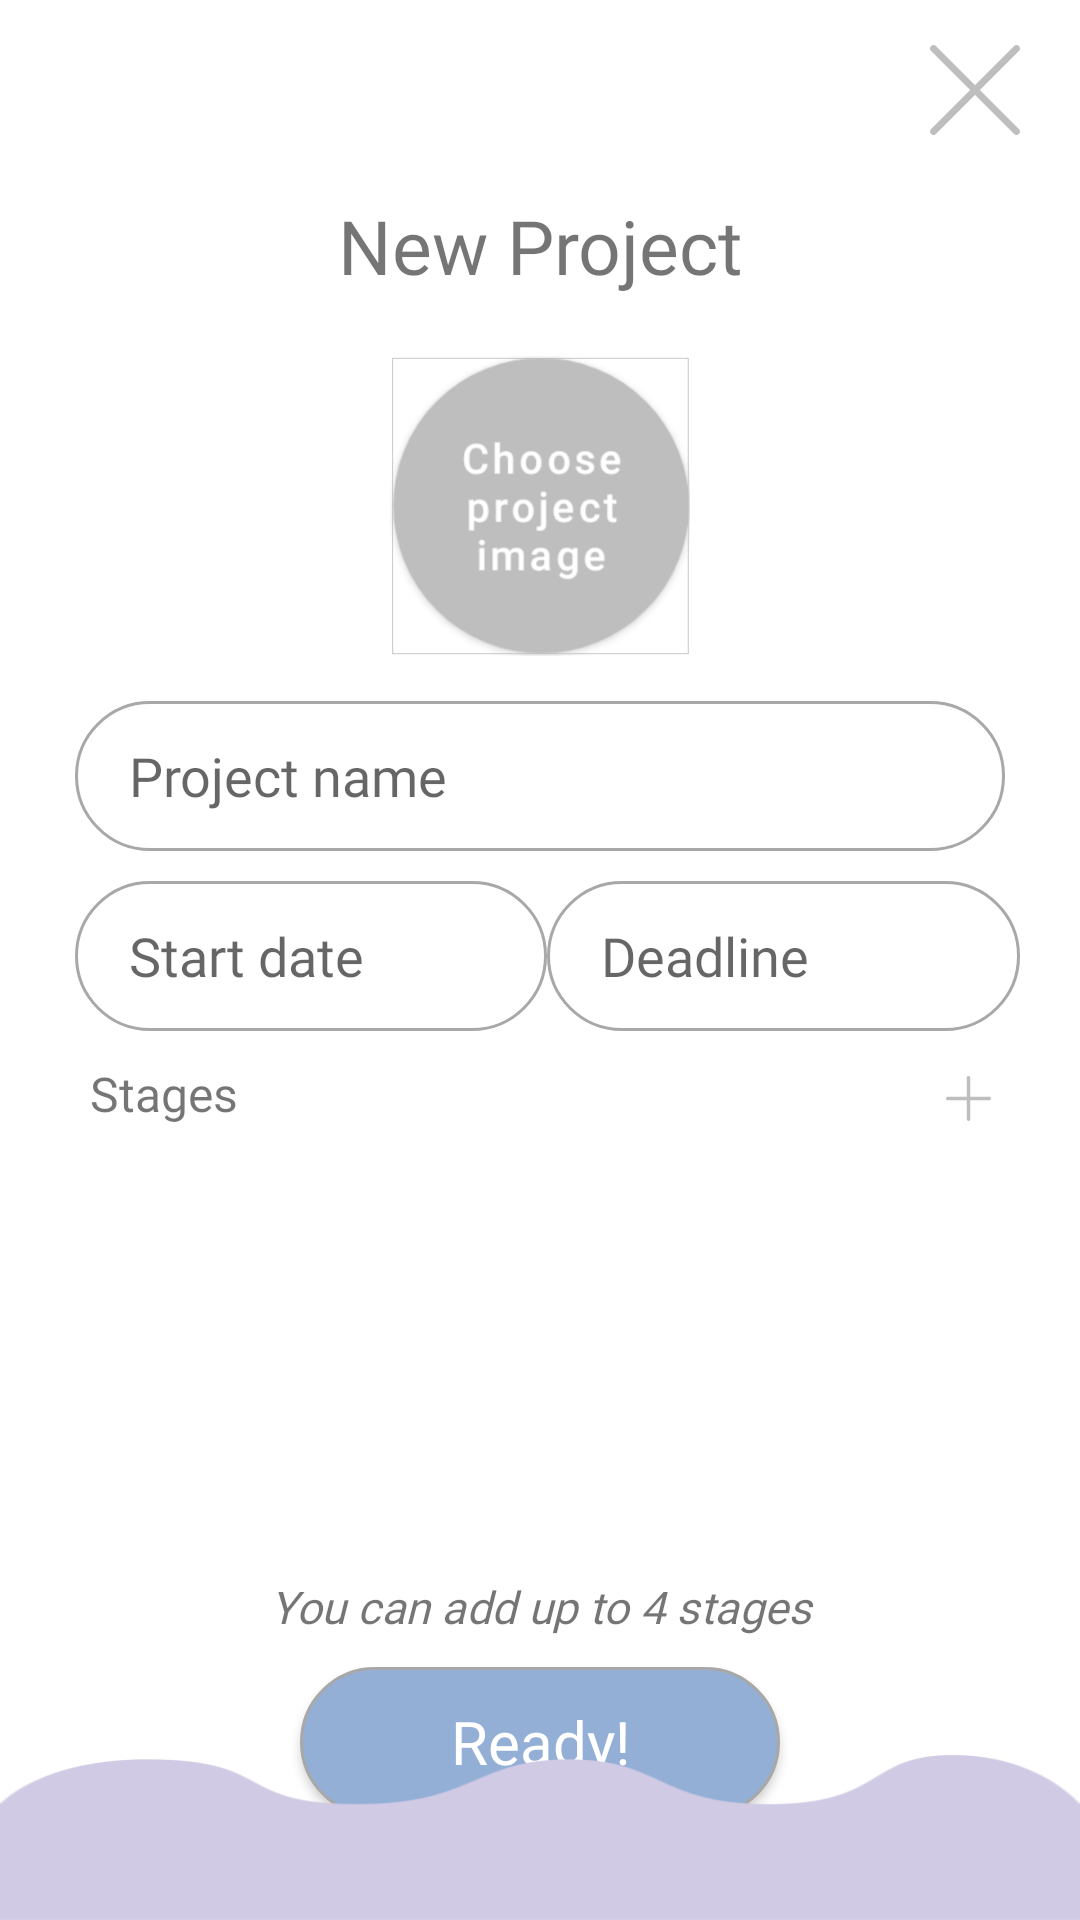

Screen size 1080 × 1920. Icon name, then its box in pixels as (x1, y1, x2, y2):
cancel: (930, 45, 1020, 135)
plus: (946, 1076, 991, 1121)
